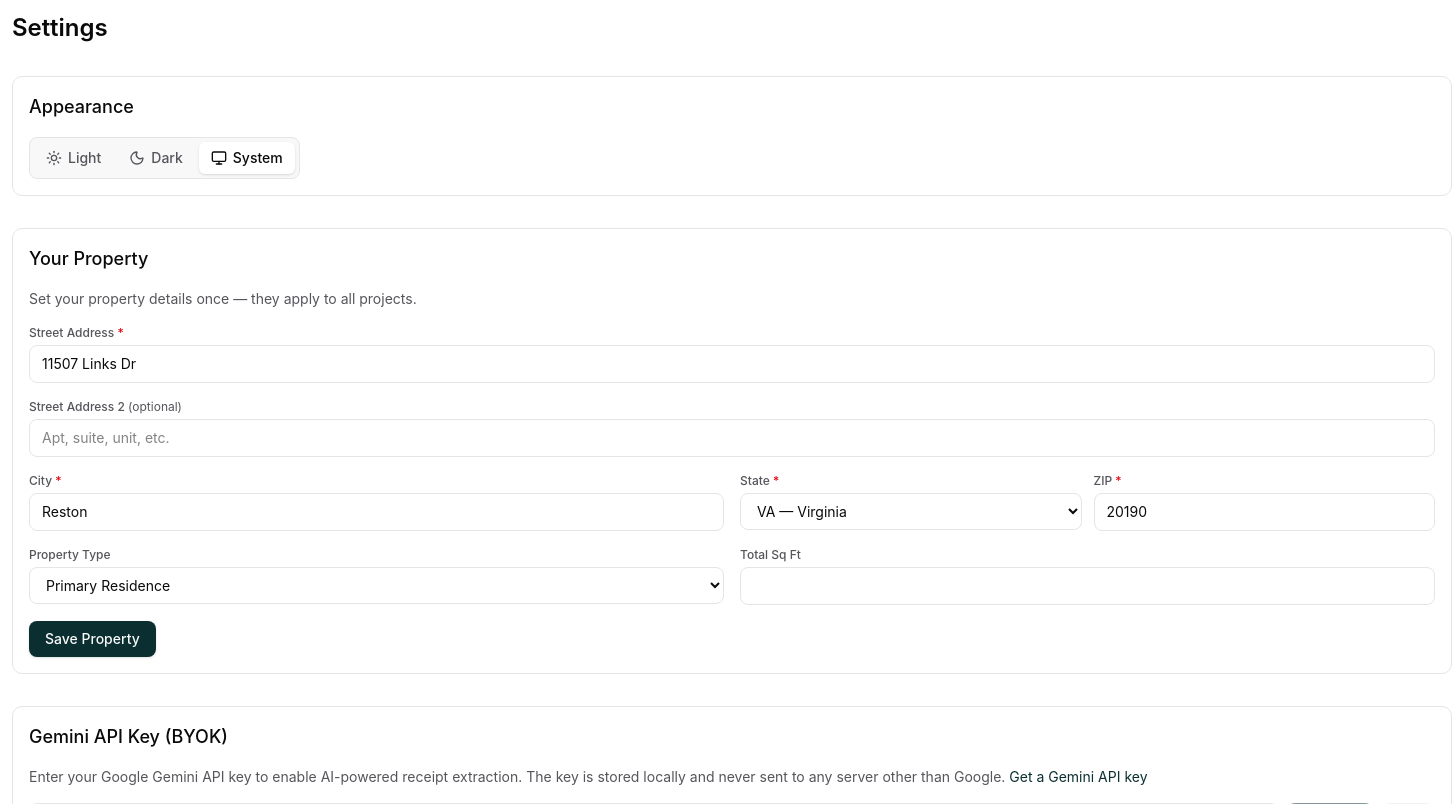
it: SettingsPage — property form › shows 'Saved ✓' after a successful save then reverts to idle
Click the button "Save Property" at (92, 639), box [29,621,156,657]
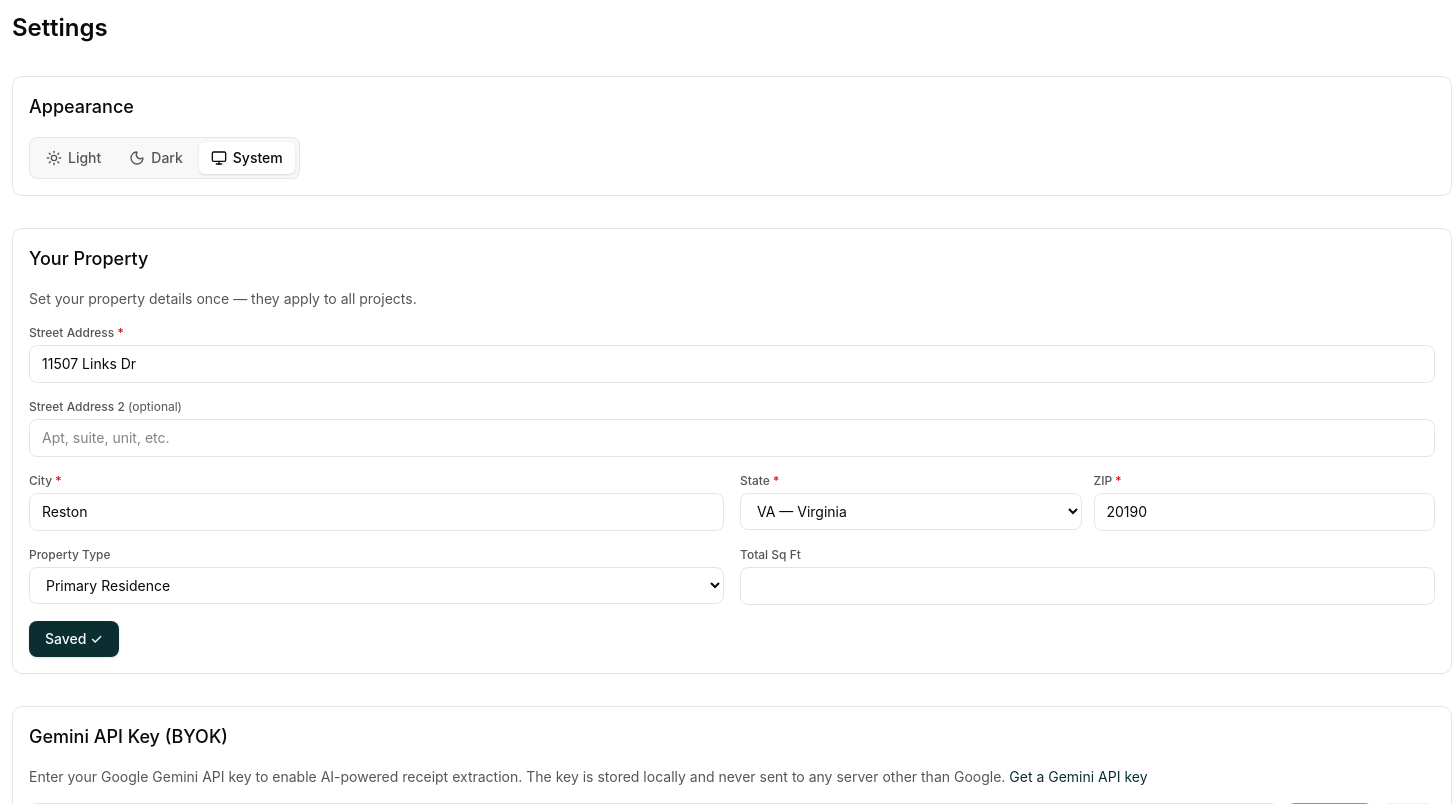
Expected: the button "Saved ✓" is shown, [29,621,118,657]
